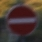No entry: (6, 5, 37, 37)
